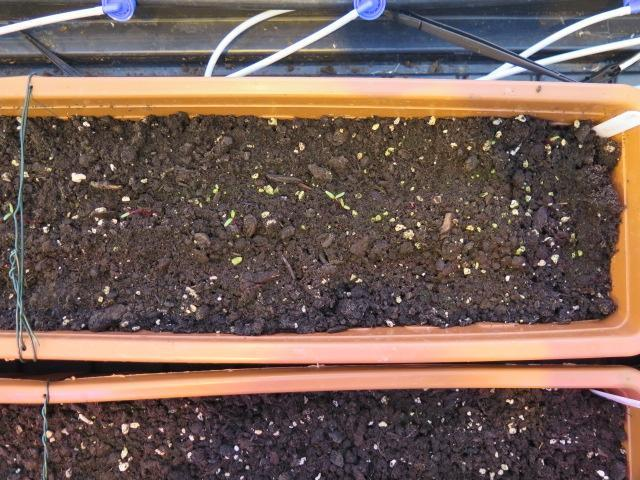crop: (219, 207, 237, 227)
